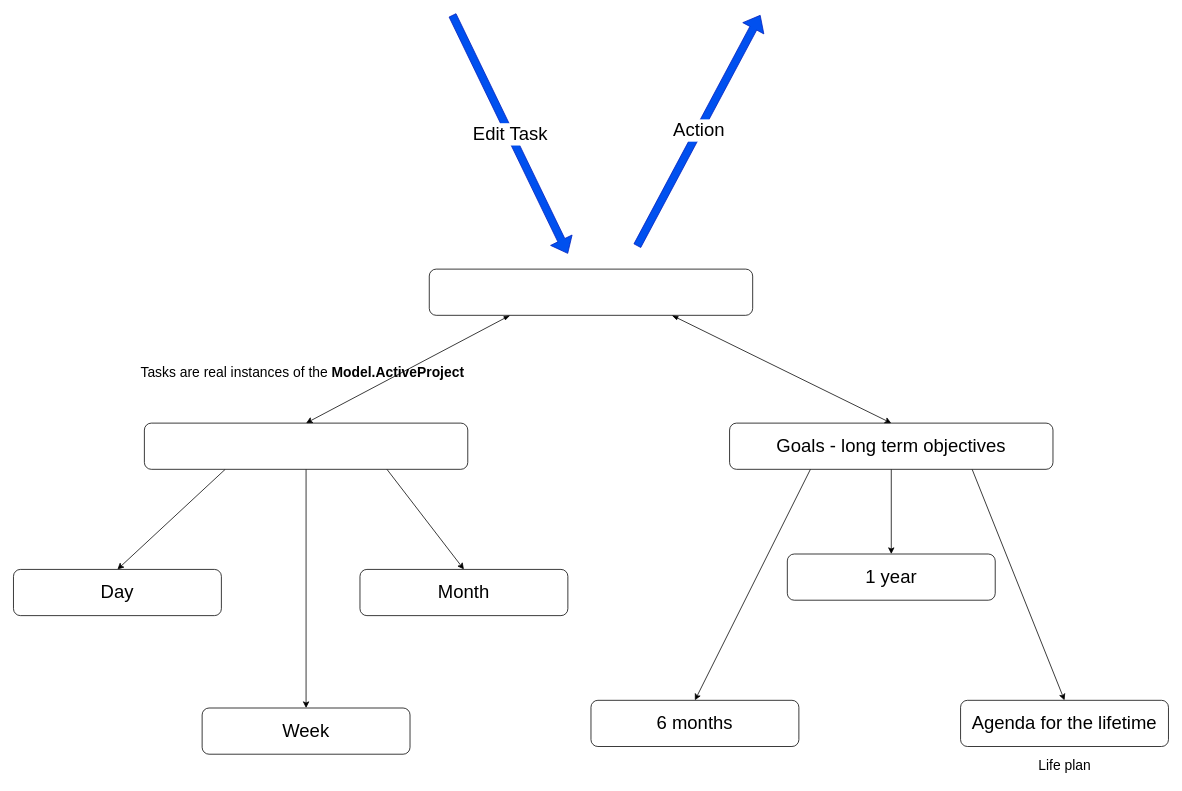
This 1182x791 diagram has some shape labels left out. The shapes that lost their labels are listed below. From the top down, each one's centre as x and y in pixels, then its label:
At point 591,291: "Tasks/Goals".
At point 306,445: "Tasks - immediate objectives".
